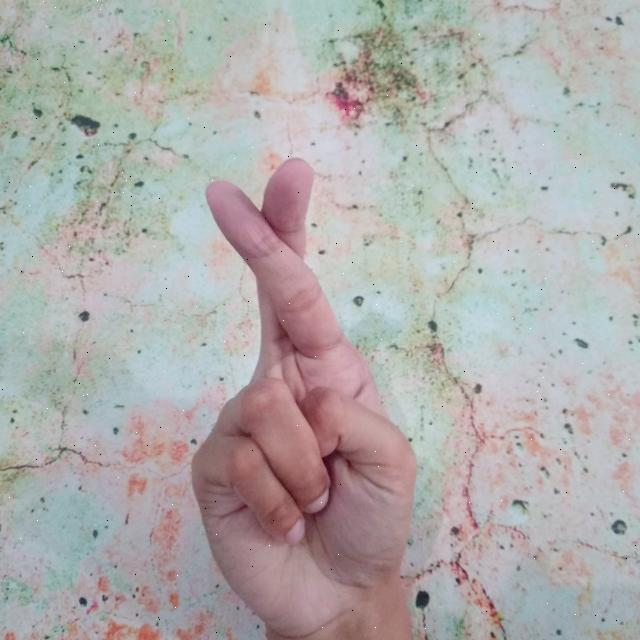R: (187, 150, 426, 640)
